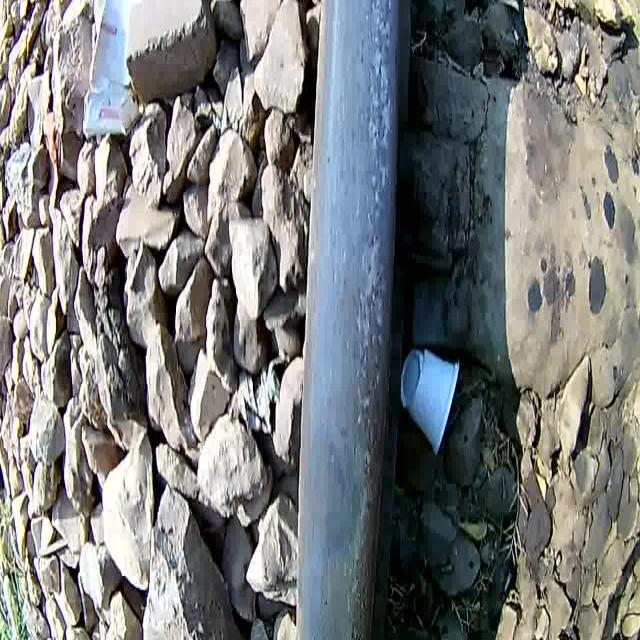Squats: (275, 0, 428, 640)
